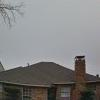Chimney: (69, 50, 92, 83)
